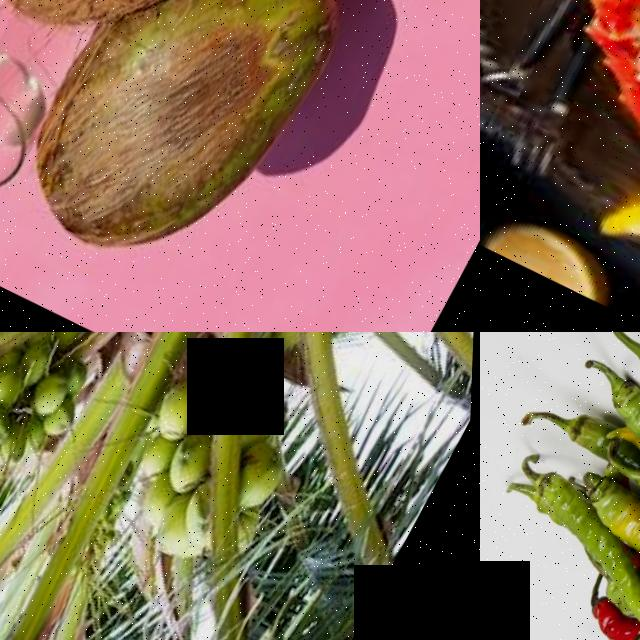chilli: (572, 469, 640, 562)
coconut: (18, 0, 354, 305)
coconuts: (102, 371, 267, 567), (0, 332, 110, 502)
crab: (581, 0, 640, 329), (550, 0, 640, 129)
